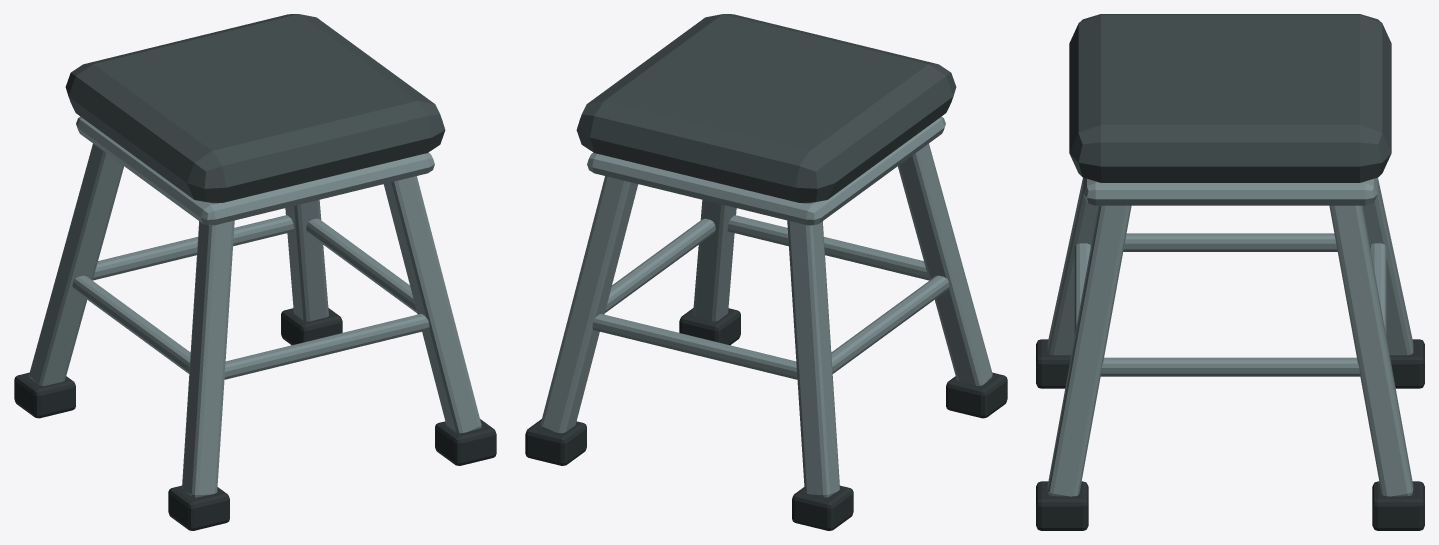
File: stool.v1.glb
3 renders of one model, left to right at view 1: azimuth 30°, elevation 25°; view 2: azimuth 150°, elevation 25°; view 3: azimuth 270°, elevation 25°, orthographic. The views are drawn at different scales.
Parts seen in each view (by area): view 1: Foot brace, Seat cushion, Rubber shoe; view 2: Foot brace, Seat cushion, Rubber shoe; view 3: Seat cushion, Foot brace, Rubber shoe.
Boxes of the visible parts, x1,y1,x2,y2 form: Foot brace: (29, 116, 481, 497); Seat cushion: (65, 14, 445, 203); Rubber shoe: (14, 308, 496, 530); Foot brace: (540, 116, 992, 497); Seat cushion: (576, 14, 956, 203); Rubber shoe: (525, 308, 1007, 530); Seat cushion: (1069, 14, 1391, 182); Foot brace: (1047, 177, 1413, 496); Rubber shoe: (1036, 339, 1424, 530).
Size of the model in its own units: 0.555 by 0.6 by 0.555.
